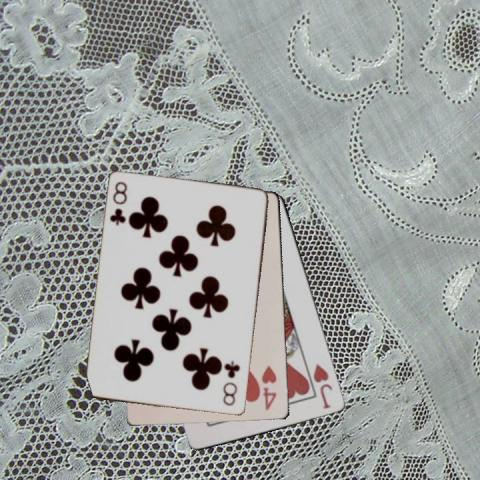4h: (261, 363, 278, 412)
8c: (220, 358, 242, 407), (108, 179, 130, 227)
Jh: (311, 361, 334, 411)
